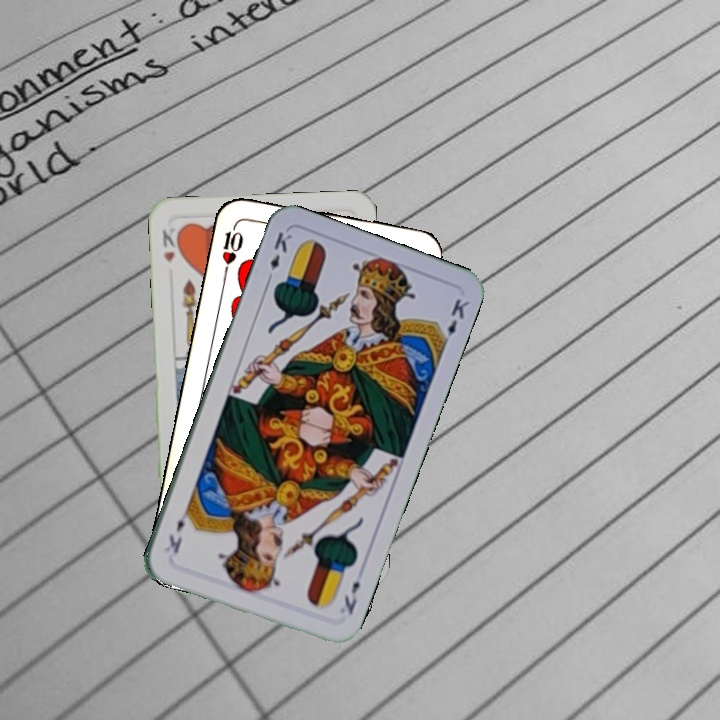EK: (263, 227, 295, 285), (340, 576, 363, 618)
H10: (217, 219, 246, 278)
HK: (158, 223, 183, 265)
